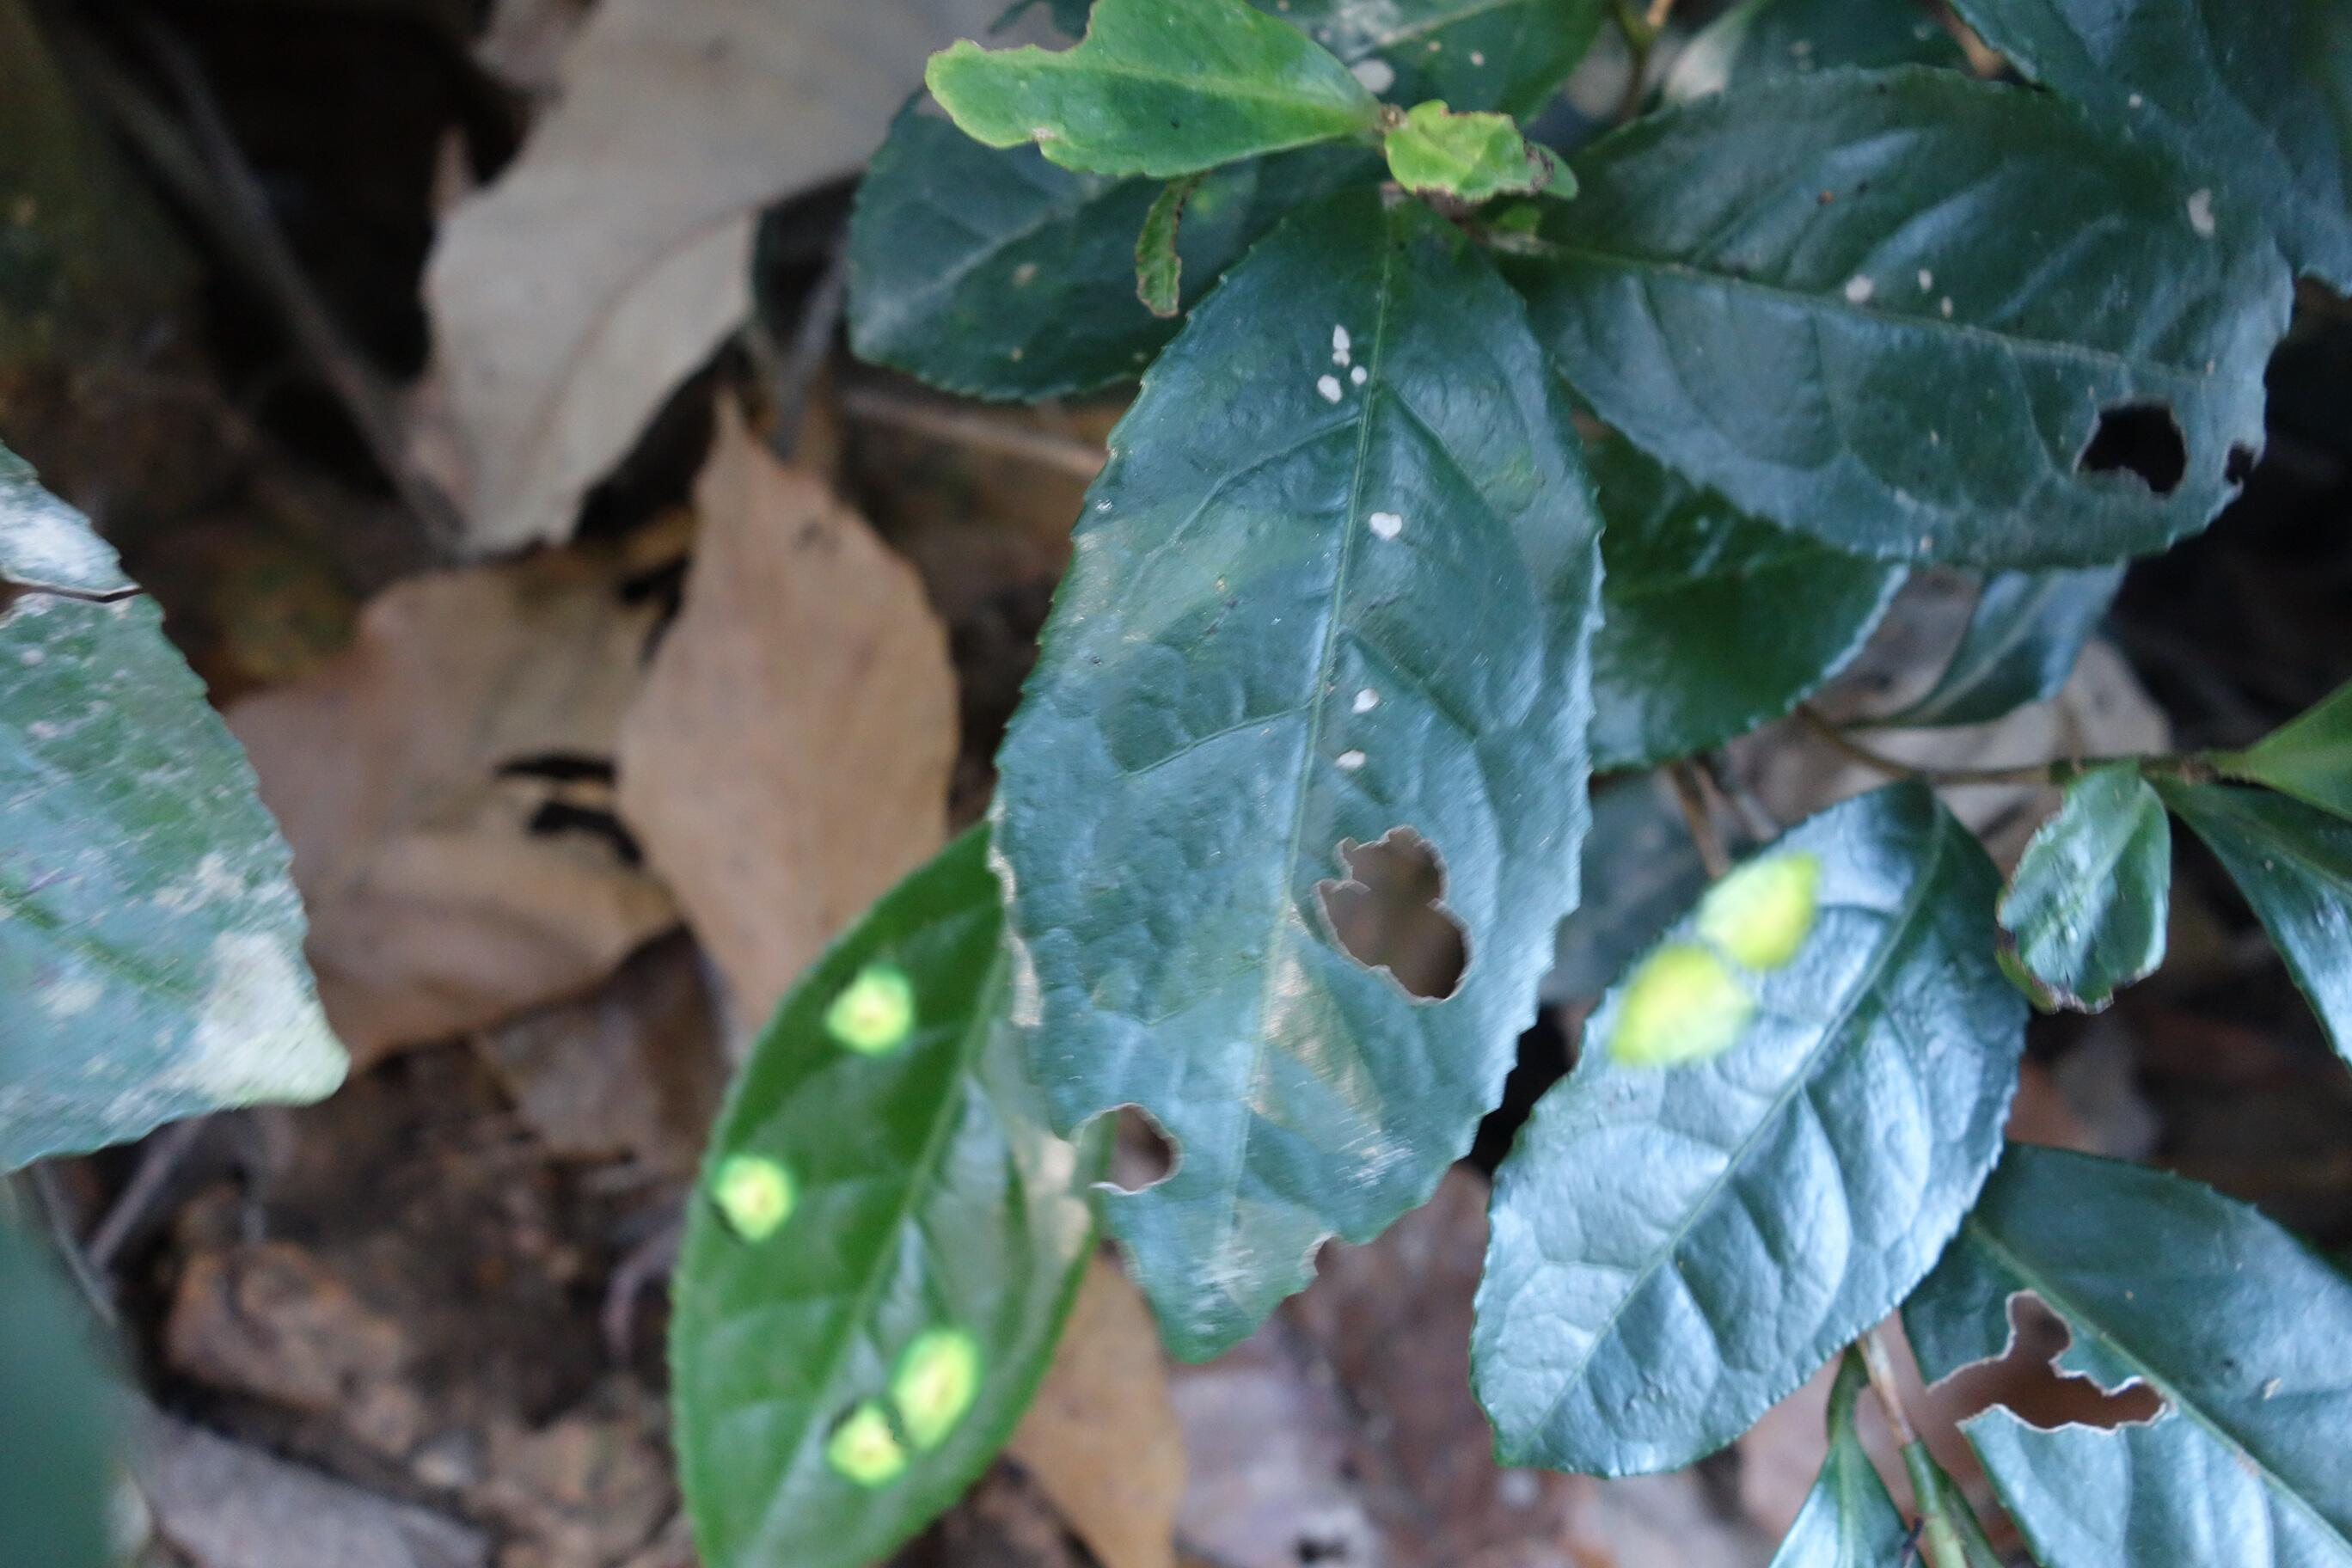chabing_high: (1470, 779, 2033, 1482), (663, 815, 1113, 1568)
chihuo_high: (987, 182, 1608, 1361), (1521, 58, 2298, 572)
chihuo_low: (1913, 1132, 2348, 1563)
